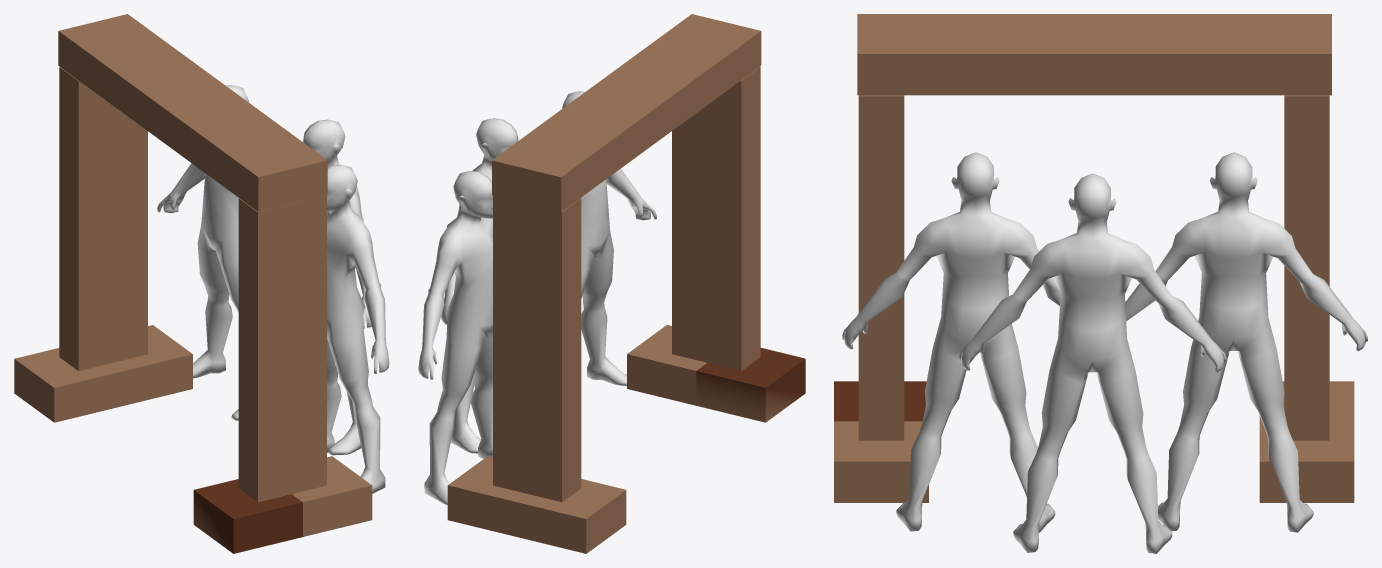
Rendered from photobooth.fbx.
The picture shows the model from 3 angles, left to right: view 1: azimuth 30°, elevation 25°; view 2: azimuth 150°, elevation 25°; view 3: azimuth 270°, elevation 25°; orthographic projection. The views are drawn at different scales.
Parts seen in each view (by area): view 1: Cube.019, Cube.017, Cube.010, Cube.003, Cube.001, Cube, Cube.006, Cube.002, Cube.005, Cube.007, Cube.016, Cube.009 (+8 smaller); view 2: Cube.017, Cube.014, Cube.019, Cube, Cube.002, Cube.006, Cube.005, Cube.001, Cube.007, Cube.004, Cube.009, Cube.016 (+8 smaller); view 3: Cube.018, Cube.017, Cube.019, Cube.010, Cube.011, Cube.012, Cube.013, Cube.014, Cube.015, Cube.008, Cube.003, Cube (+8 smaller).
Part boxes in pixels (bbox=[...]): Cube.019: bbox=[327, 164, 389, 493]; Cube.017: bbox=[157, 85, 248, 420]; Cube.010: bbox=[218, 131, 327, 211]; Cube.003: bbox=[238, 195, 326, 284]; Cube.001: bbox=[238, 340, 326, 429]; Cube: bbox=[238, 413, 326, 502]; Cube.006: bbox=[59, 209, 147, 298]; Cube.002: bbox=[238, 268, 326, 357]; Cube.005: bbox=[59, 137, 147, 225]; Cube.007: bbox=[59, 282, 147, 370]; Cube.016: bbox=[14, 348, 123, 422]; Cube.009: bbox=[193, 479, 302, 553]; Cube.017: bbox=[418, 171, 492, 504]; Cube.014: bbox=[492, 131, 601, 211]; Cube.019: bbox=[562, 91, 656, 385]; Cube: bbox=[672, 281, 760, 370]; Cube.002: bbox=[672, 136, 760, 225]; Cube.006: bbox=[493, 340, 581, 429]; Cube.005: bbox=[493, 268, 581, 356]; Cube.001: bbox=[672, 209, 760, 298]; Cube.007: bbox=[493, 413, 581, 502]; Cube.004: bbox=[493, 195, 581, 284]; Cube.009: bbox=[696, 348, 805, 422]; Cube.016: bbox=[517, 479, 626, 553]; Cube.018: bbox=[959, 173, 1226, 553]; Cube.017: bbox=[1125, 152, 1367, 532]; Cube.019: bbox=[842, 152, 1060, 532]; Cube.010: bbox=[857, 14, 952, 95]; Cube.011: bbox=[952, 14, 1047, 95]; Cube.012: bbox=[1047, 14, 1142, 95]; Cube.013: bbox=[1142, 14, 1236, 95]; Cube.014: bbox=[1237, 14, 1331, 95]; Cube.015: bbox=[834, 421, 928, 502]; Cube.008: bbox=[1259, 421, 1354, 502]; Cube.003: bbox=[858, 95, 904, 182]; Cube: bbox=[858, 354, 904, 440].
Size of the model in its own units: 645 by 1002 by 1124.
